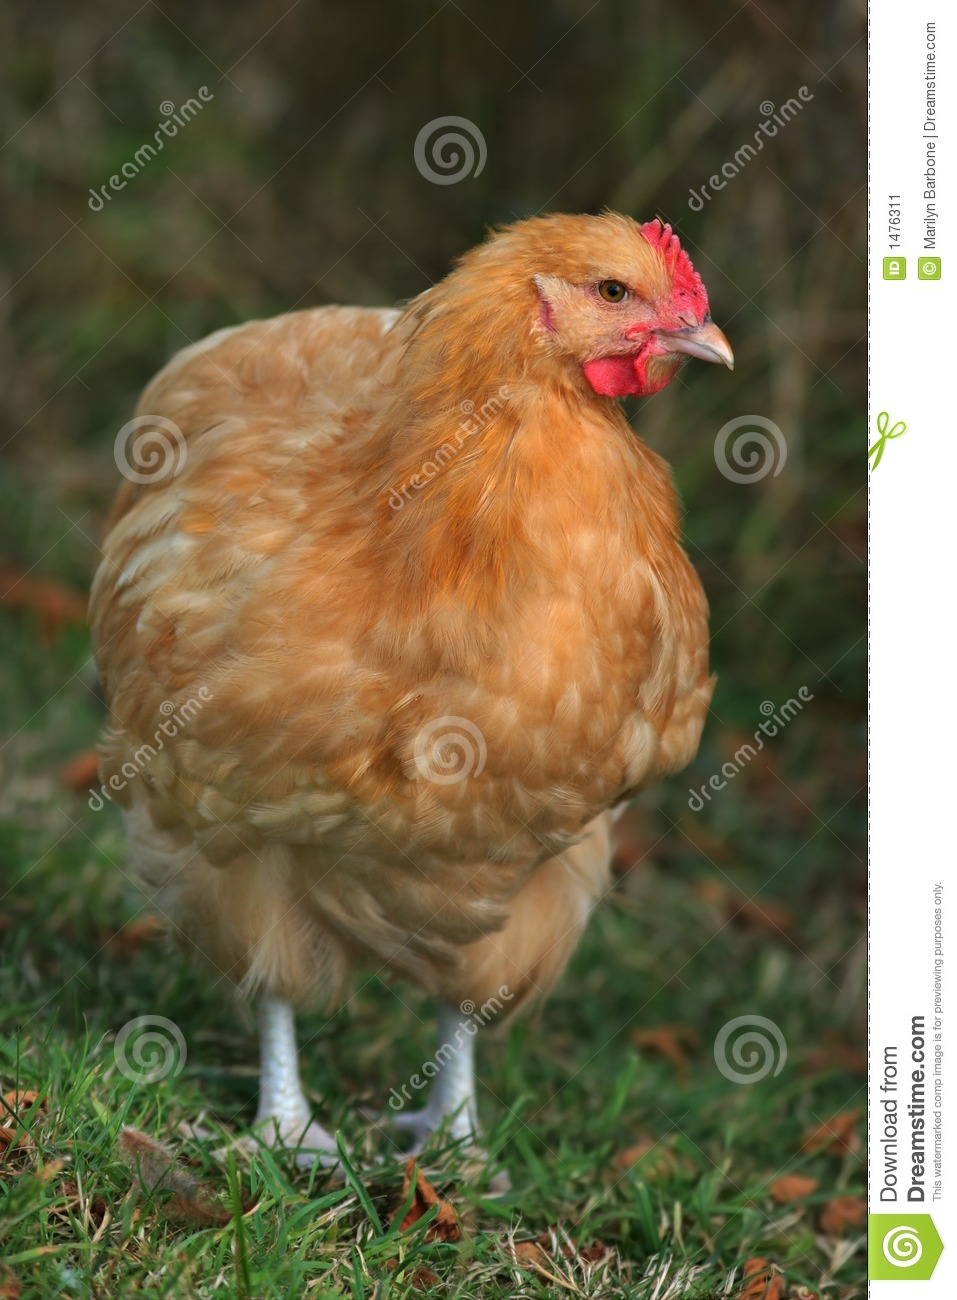buff: (99, 169, 736, 1151)
